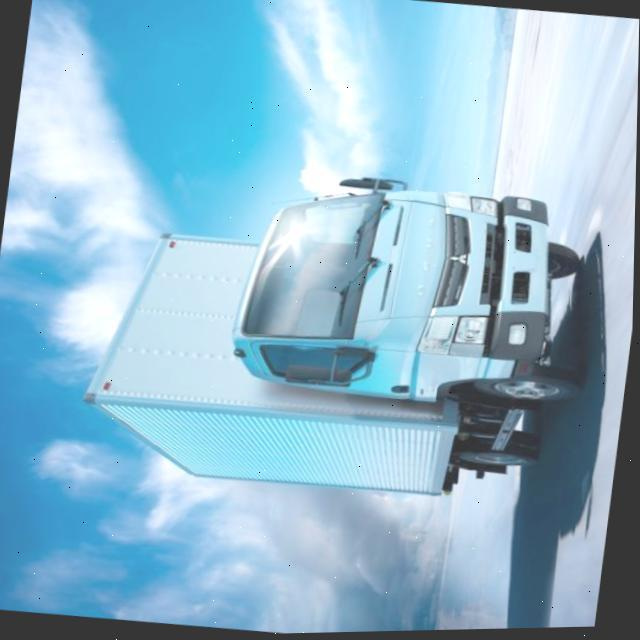truck: (72, 148, 596, 520)
